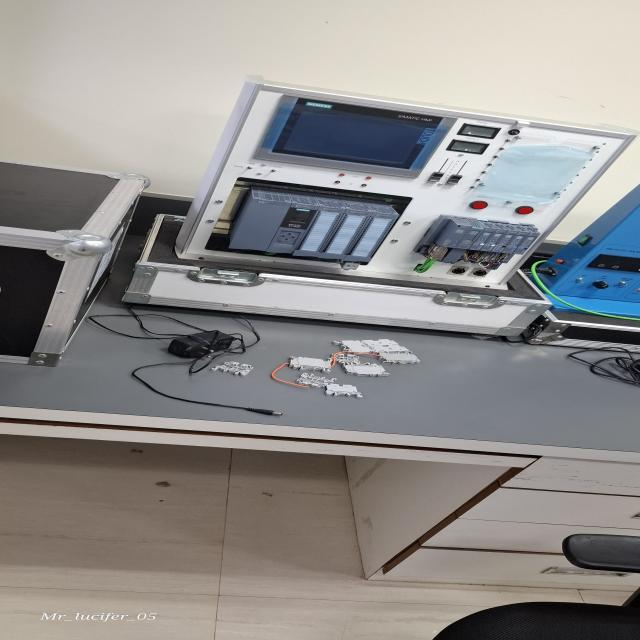Inverted: (321, 382, 367, 409)
Pass: (296, 370, 339, 388), (209, 361, 256, 377), (326, 349, 364, 366)
